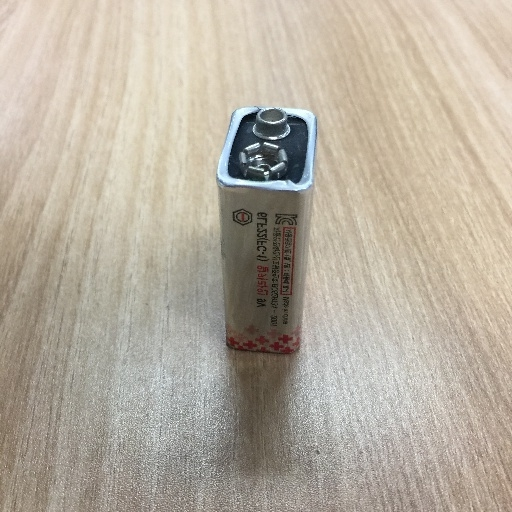Battery_3: (193, 84, 337, 380)
